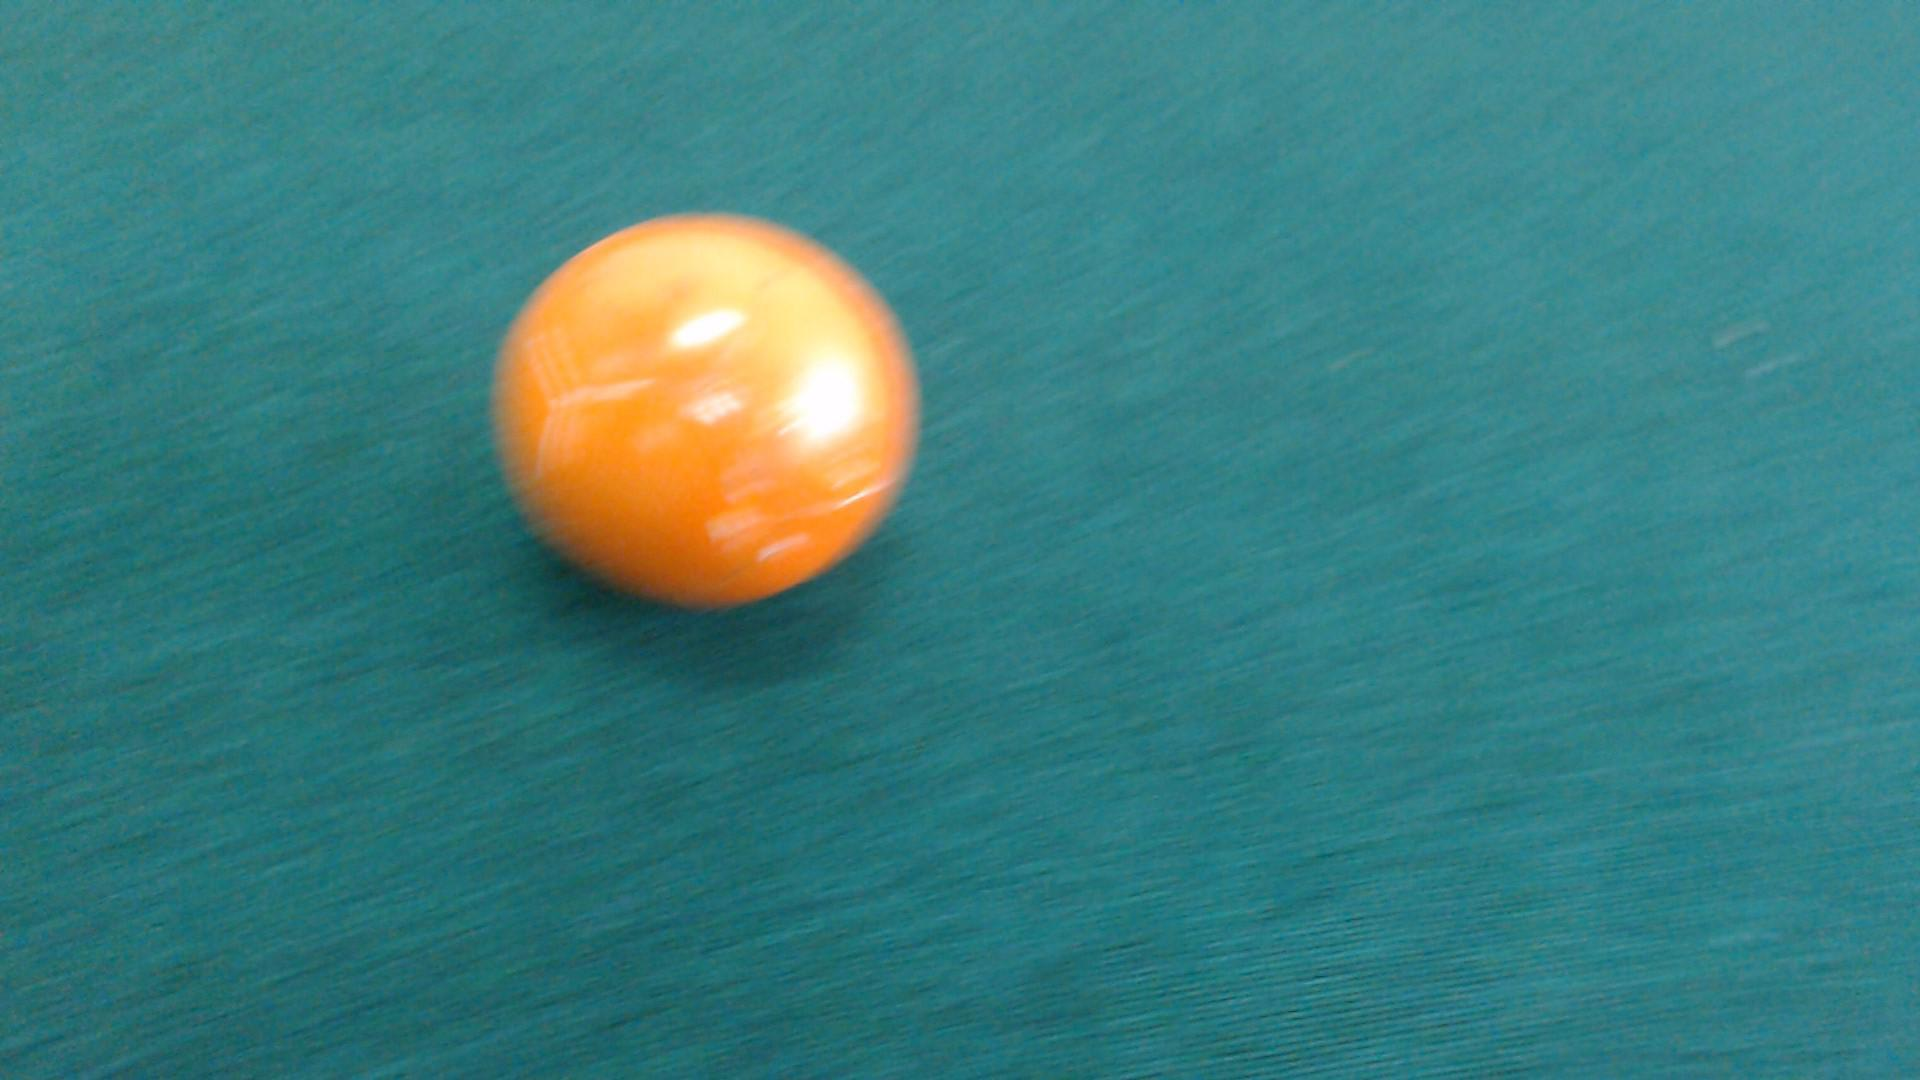bola: (455, 196, 931, 636)
